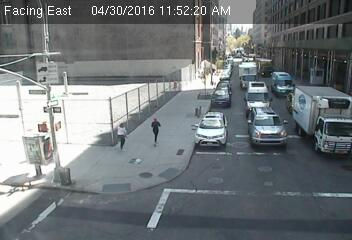neg: (49, 63, 82, 107), (311, 95, 338, 132), (267, 80, 293, 116), (296, 159, 322, 194), (205, 161, 227, 190), (304, 51, 326, 80), (148, 176, 169, 205), (230, 74, 251, 102), (134, 30, 155, 58), (276, 198, 297, 226), (255, 155, 275, 183), (190, 100, 210, 127), (90, 35, 110, 61), (32, 122, 52, 148), (58, 150, 77, 176), (198, 39, 216, 63), (97, 176, 113, 198), (241, 30, 257, 51), (283, 39, 297, 58)
pos: (110, 117, 136, 152), (142, 114, 165, 144)
